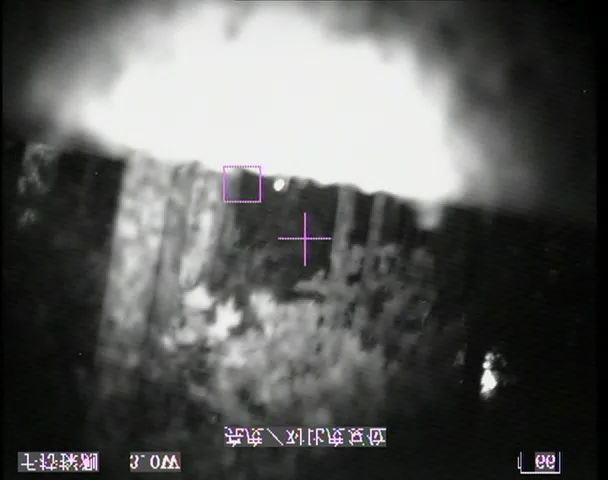my: (271, 177, 285, 192)
